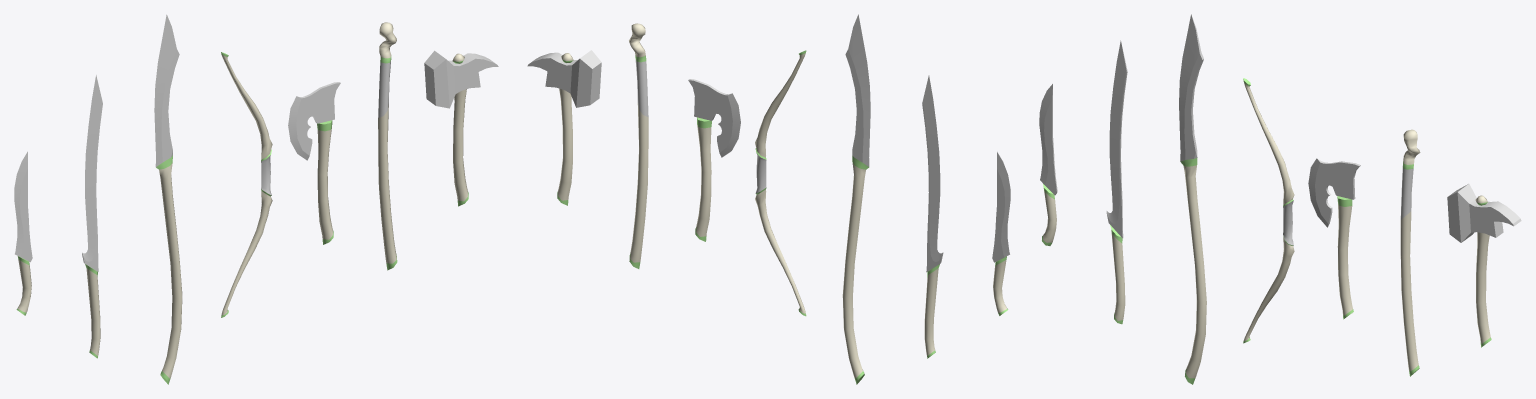
File: weapon_set_elven.gltf
The picture shows the model from 3 angles, left to right: view 1: azimuth 30°, elevation 25°; view 2: azimuth 150°, elevation 25°; view 3: azimuth 330°, elevation 25°; orthographic projection.
Parts seen in each view (by area): view 1: ElvenPolearm, ElvenHammer, ElvenAxe, ElvenLongSword, ElvenStaff, ElvenBow, ElvenShortSword; view 2: ElvenPolearm, ElvenHammer, ElvenAxe, ElvenLongSword, ElvenStaff, ElvenBow, ElvenShortSword; view 3: ElvenPolearm, ElvenHammer, ElvenAxe, ElvenLongSword, ElvenStaff, ElvenBow, ElvenShortSword.
Boxes of the visible parts, x1,y1,x2,y2 form: ElvenPolearm: (154,14,182,384); ElvenHammer: (424,50,498,206); ElvenAxe: (288,82,340,244); ElvenLongSword: (82,75,102,358); ElvenStaff: (378,22,397,270); ElvenBow: (221,52,272,317); ElvenShortSword: (14,151,32,315); ElvenPolearm: (842,14,870,384); ElvenHammer: (527,50,601,205); ElvenAxe: (688,79,740,241); ElvenLongSword: (922,75,943,358); ElvenStaff: (629,23,648,268); ElvenBow: (755,50,806,316); ElvenShortSword: (992,152,1010,315); ElvenPolearm: (1179,14,1206,384); ElvenHammer: (1447,184,1521,347); ElvenAxe: (1308,158,1360,319); ElvenLongSword: (1106,40,1127,324); ElvenStaff: (1400,129,1420,376); ElvenBow: (1243,78,1294,343); ElvenShortSword: (1039,84,1057,245).
Size of the model in its own units: 6.67 by 4.93 by 0.282.
